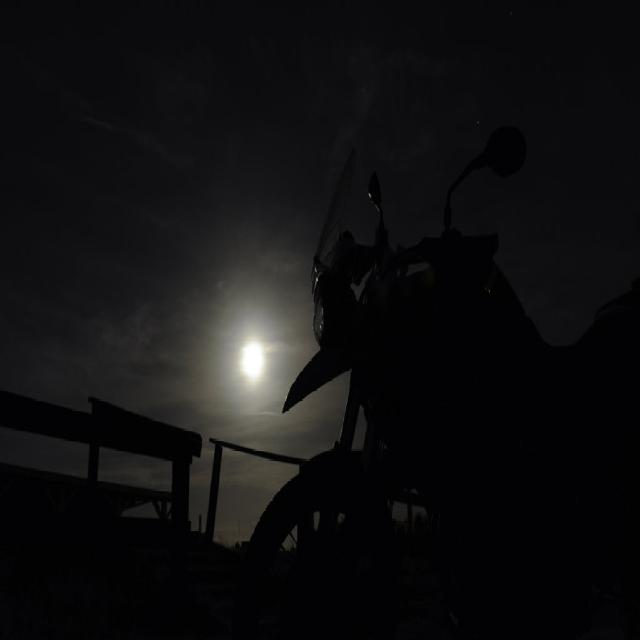Motorbike: (234, 219, 640, 631)
